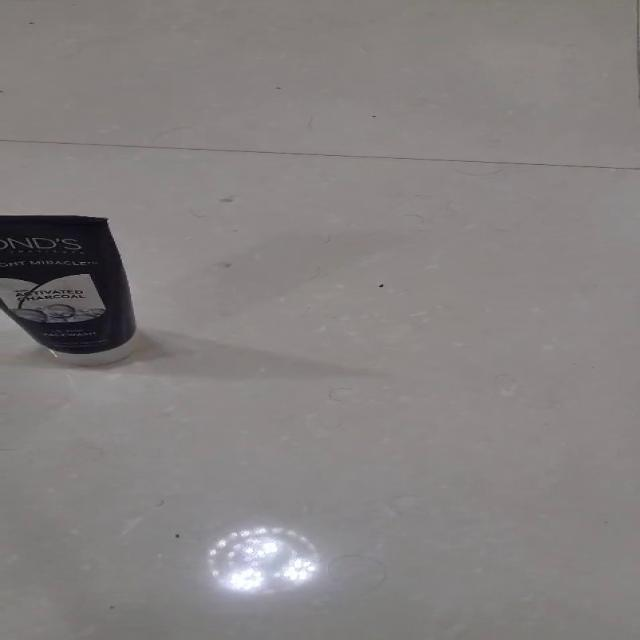plastic: (0, 214, 139, 366)
